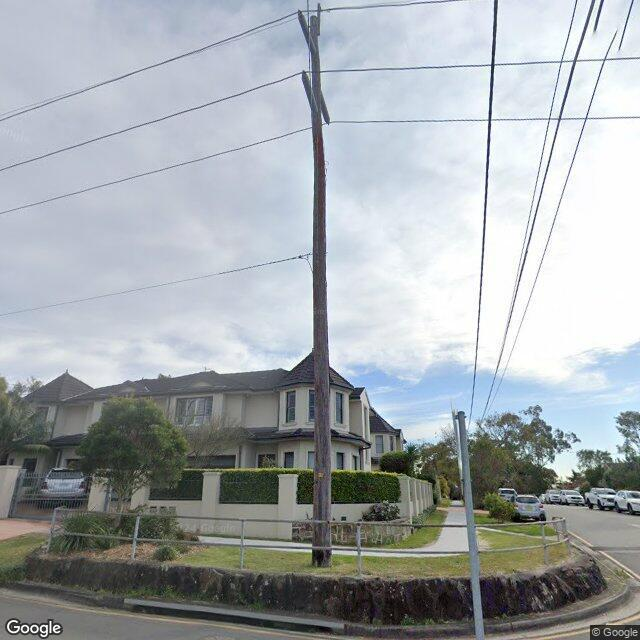HV-transmission: (296, 2, 331, 123)
timber-pole: (308, 15, 331, 565)
